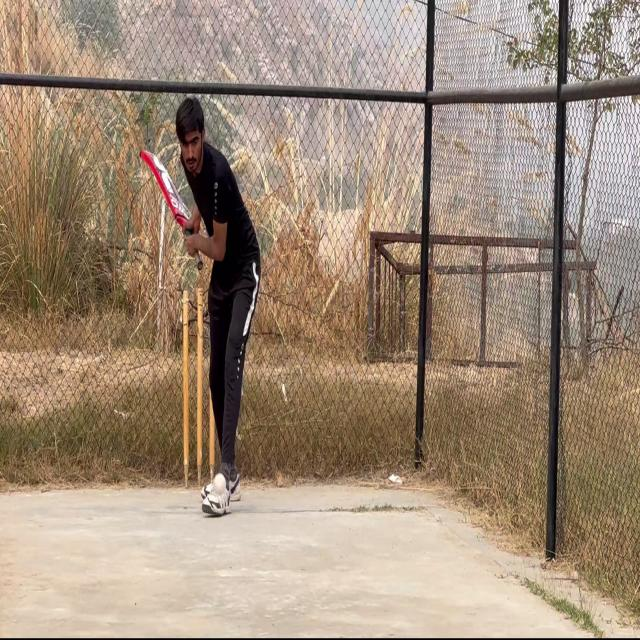Batsman: (170, 89, 264, 522)
